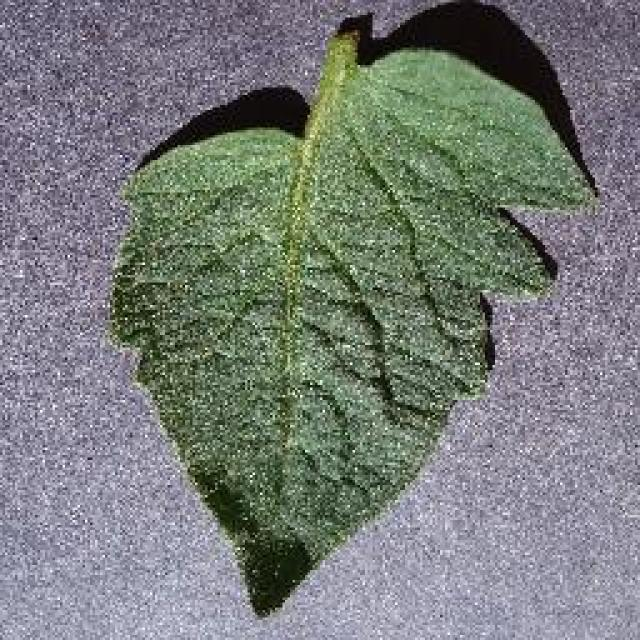healthy: (108, 22, 604, 614)
